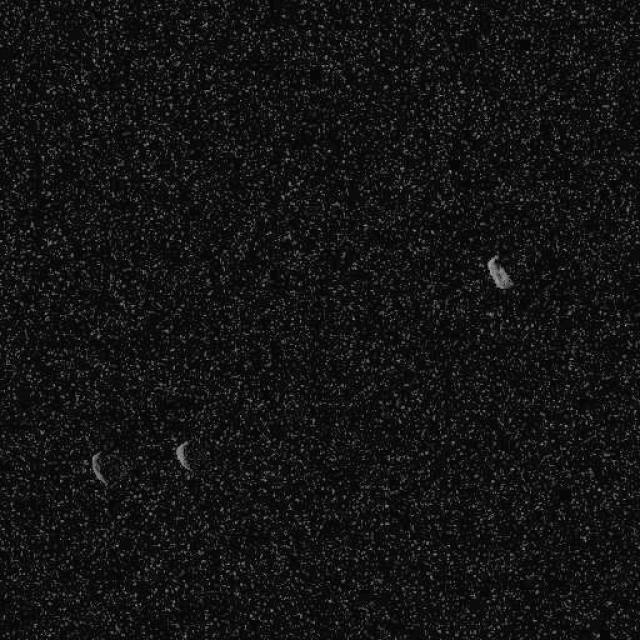D2: (485, 254, 514, 290), (90, 449, 109, 486), (174, 439, 192, 471)
